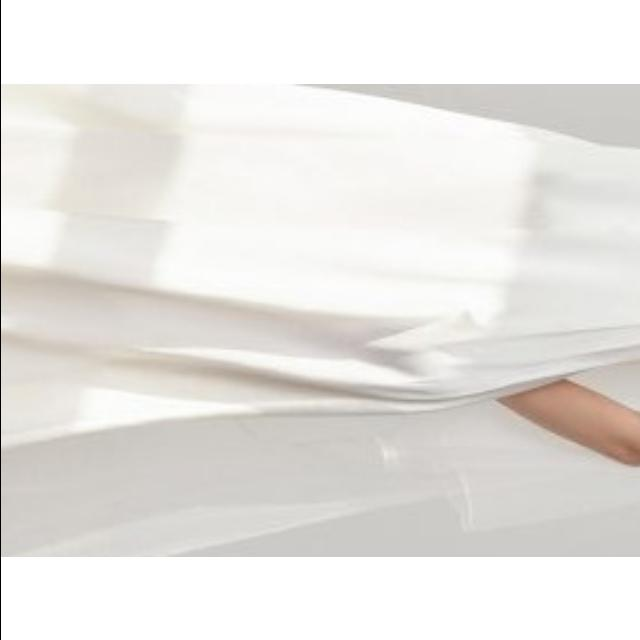silk: (0, 84, 640, 486)
